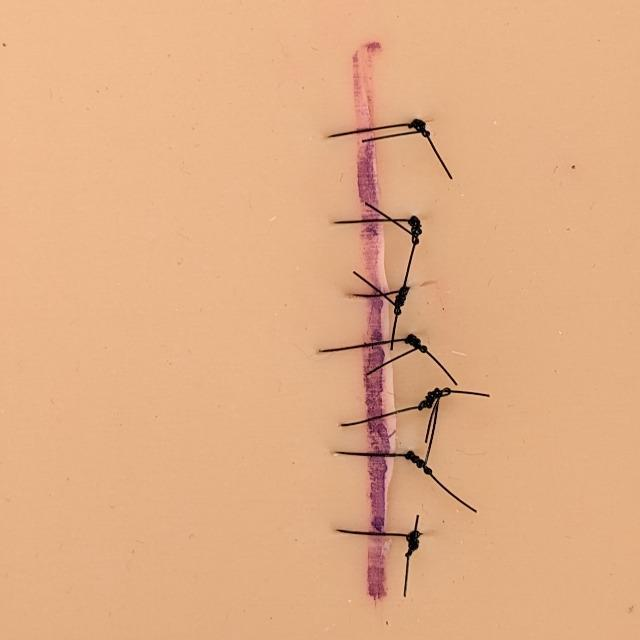suture_good: (316, 331, 424, 371), (333, 518, 430, 559)
suture_loose: (333, 386, 461, 436), (324, 441, 444, 480), (322, 115, 429, 151), (346, 277, 418, 315)
suture_tight: (331, 211, 423, 243)
